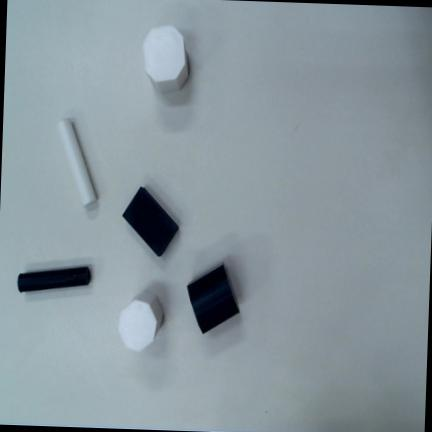Cilindro: (58, 118, 97, 206), (18, 266, 90, 292)
Paralelepipedo: (123, 187, 180, 258)
Prisma_hexagonal: (187, 261, 240, 334), (143, 25, 188, 93), (118, 291, 164, 352)
